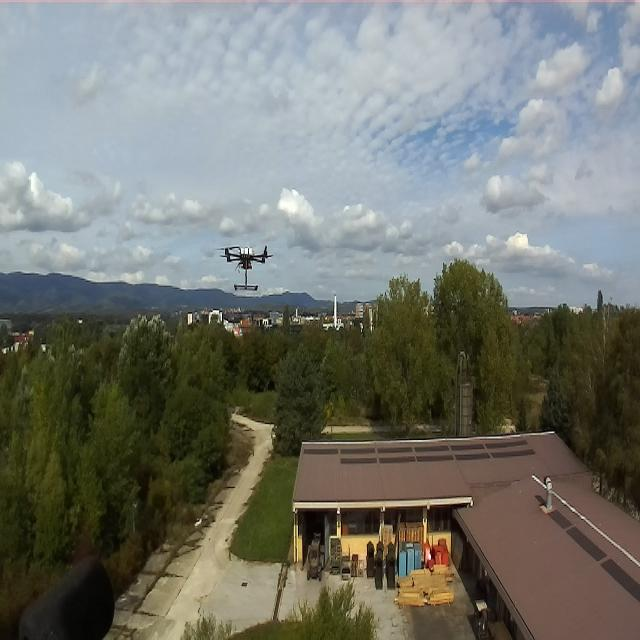UAV: (211, 240, 281, 288)
